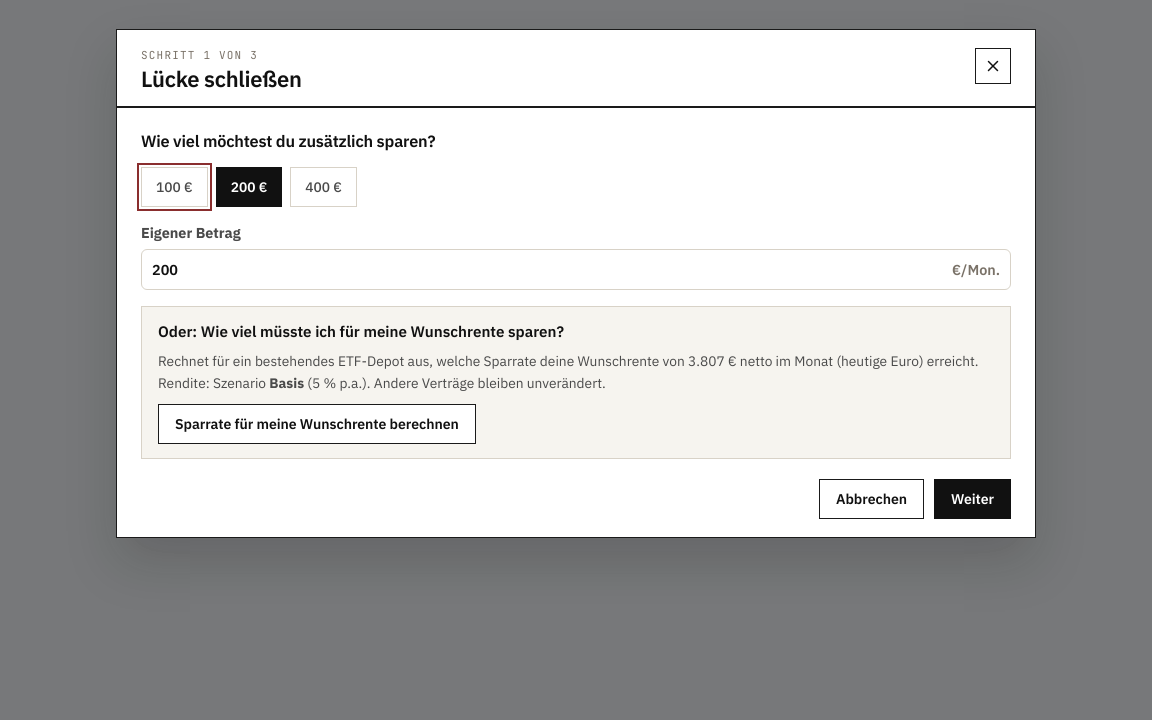
Test case: LueckeSchliessenModal — target contribution solver (F07) › reports an already-met target instead of a contribution
Click the button "Sparrate für meine Wunschrente berechnen" at (317, 424), box x1=158 y1=404 x2=476 y2=444
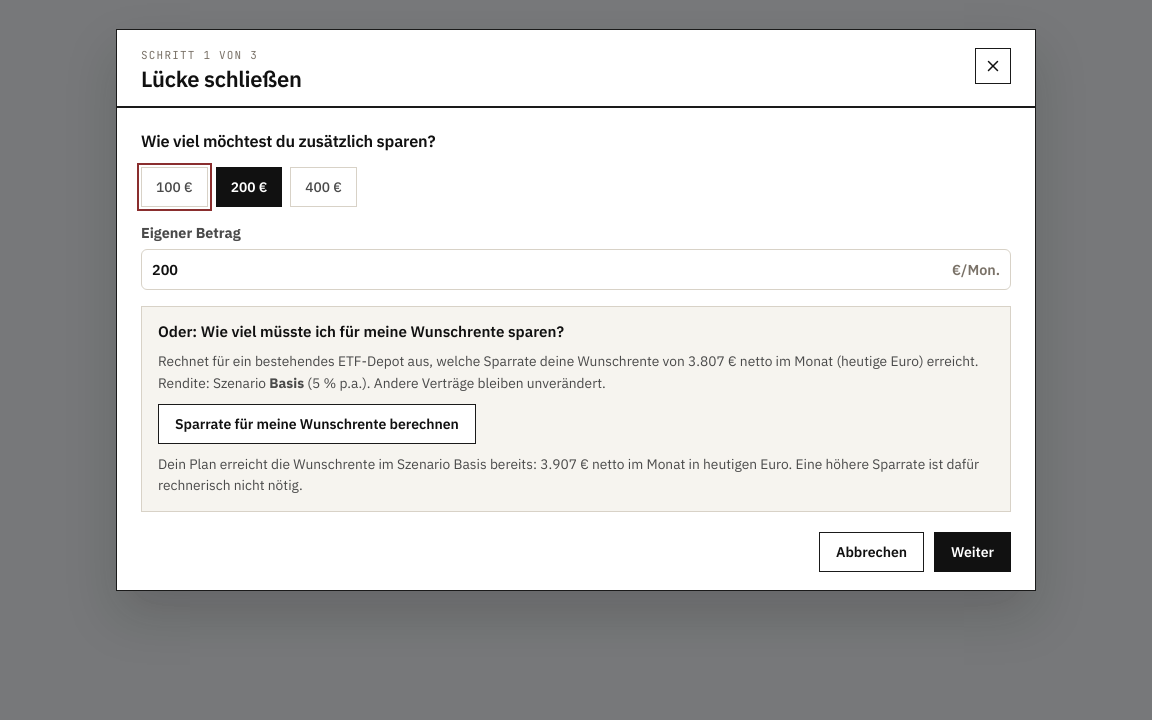
Now the message with class "luecke-modal__solver-result" shows "erreicht die Wunschrente", box x1=158 y1=455 x2=454 y2=473
